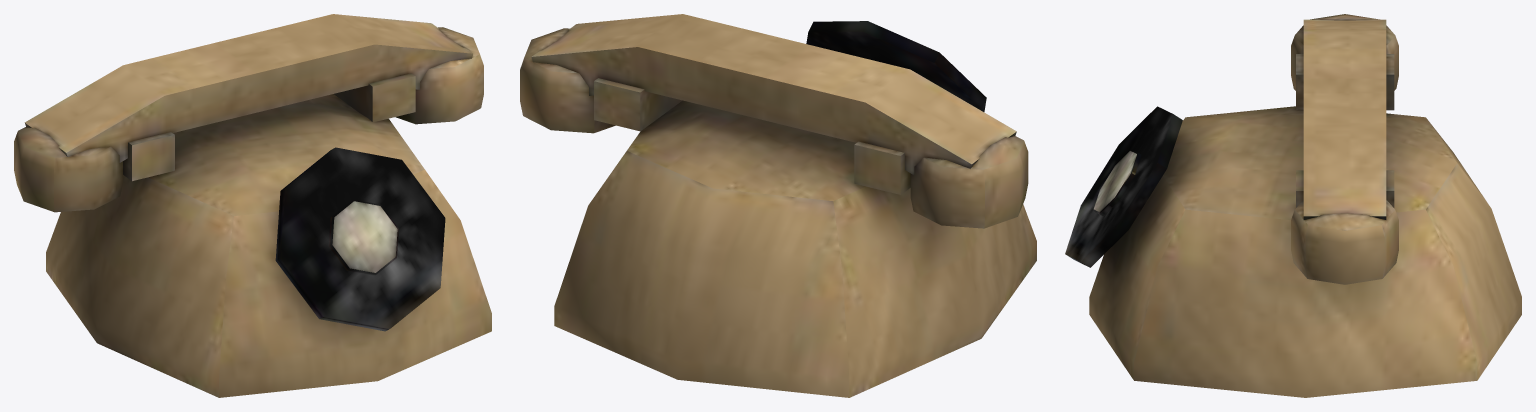
Rendered from phone_rotary_lod1_web.glb.
3 renders of one model, left to right at view 1: azimuth 30°, elevation 25°; view 2: azimuth 150°, elevation 25°; view 3: azimuth 270°, elevation 25°, orthographic. The views are drawn at different scales.
Visible parts, largest first — view 1: PhoneRotary_Body; view 2: PhoneRotary_Body; view 3: PhoneRotary_Body.
Boxes of the visible parts, x1,y1,x2,y2 form: PhoneRotary_Body: [14, 14, 491, 397]; PhoneRotary_Body: [520, 14, 1036, 397]; PhoneRotary_Body: [1065, 14, 1521, 397].
Size of the model in its own units: 0.265 by 0.1289 by 0.2324.
Materials: 1 (1 with a texture image).
